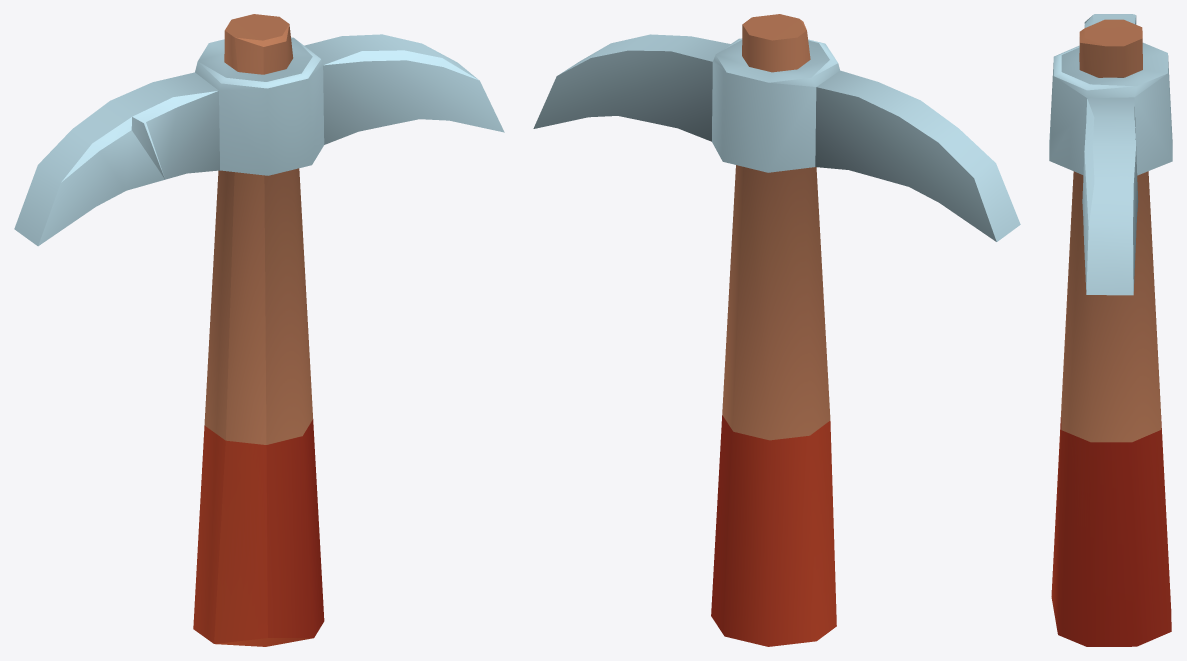
File: tool_004.glb
3 renders of one model, left to right at view 1: azimuth 30°, elevation 25°; view 2: azimuth 150°, elevation 25°; view 3: azimuth 270°, elevation 25°, orthographic.
Parts seen in each view (by area): view 1: tool.004; view 2: tool.004; view 3: tool.004.
Boxes of the visible parts, x1,y1,x2,y2 form: tool.004: (14, 14, 504, 646); tool.004: (533, 14, 1020, 646); tool.004: (1049, 14, 1172, 646).
Size of the model in its own units: 0.3373 by 0.4122 by 0.0781.
1 material, 1 textured.
